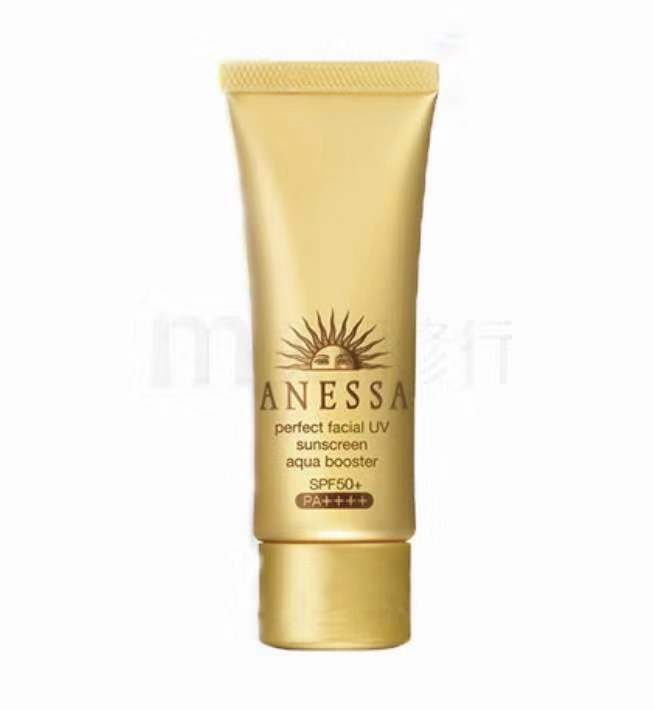cosmetic: (215, 63, 440, 650)
